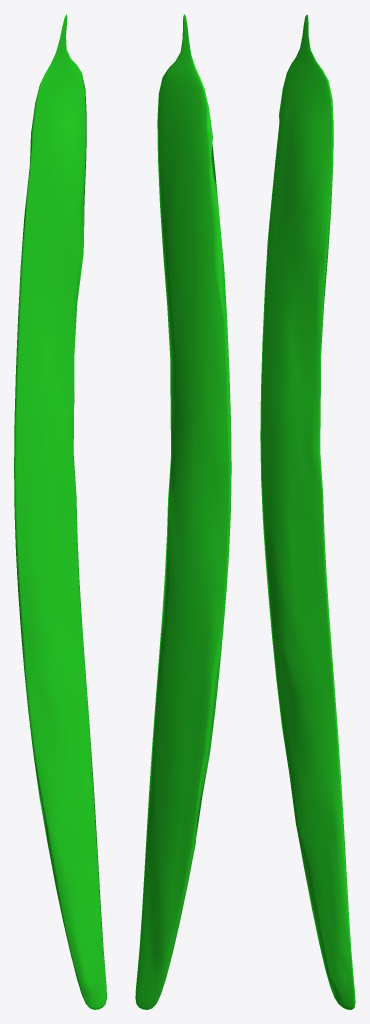
The model's file is bean.obj.
3 renders of one model, left to right at view 1: azimuth 30°, elevation 25°; view 2: azimuth 150°, elevation 25°; view 3: azimuth 330°, elevation 25°, orthographic.
Parts seen in each view (by area): view 1: Cube; view 2: Cube; view 3: Cube.
Part boxes in pixels (left/top/right/bottom): Cube: left=14, top=14, right=106, bottom=1009; Cube: left=135, top=14, right=231, bottom=1009; Cube: left=260, top=14, right=355, bottom=1009.
Size of the model in its own units: 0.0484 by 0.4911 by 0.00981.
